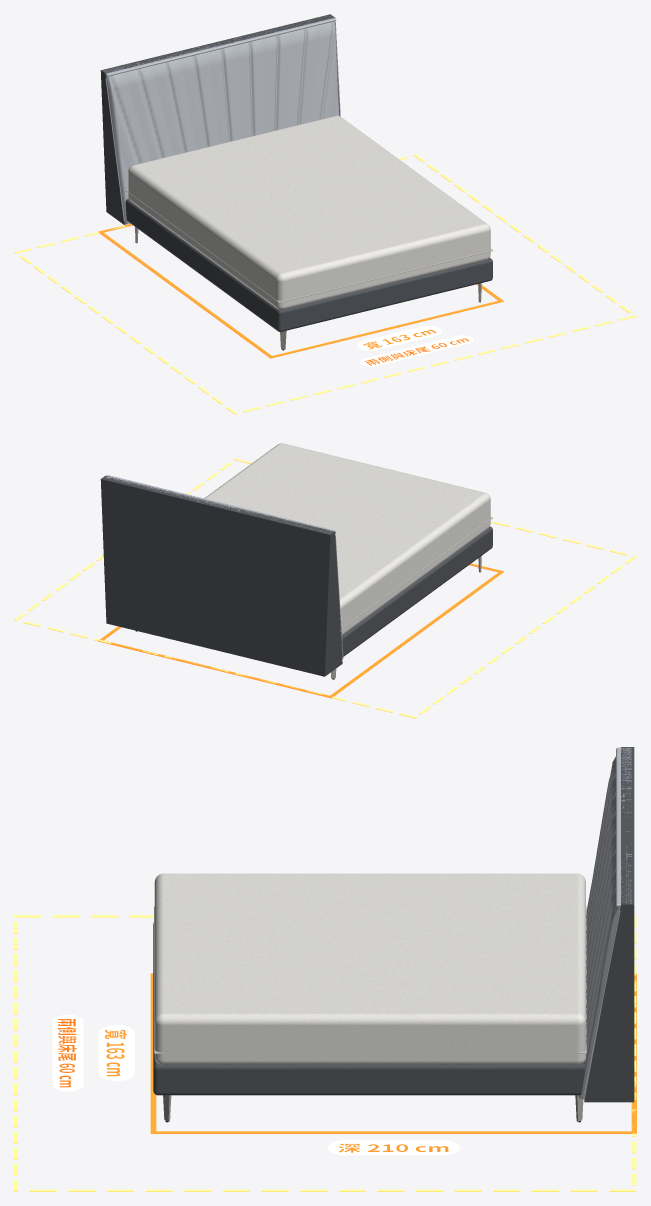
The model's file is ownMila-f.glb.
The picture shows the model from 3 angles, top to bottom: view 1: azimuth 30°, elevation 25°; view 2: azimuth 150°, elevation 25°; view 3: azimuth 270°, elevation 25°; orthographic projection. The views are drawn at different scales.
Parts seen in each view (by area): view 1: object 20, object 2, ar-frame, object 8, object 6, object 1, object 3, object 21; view 2: object 1, object 20, object 6, ar-frame, object 3; view 3: object 20, object 7, ar-frame, object 1, object 2, object 3, object 21.
Boxes of the visible parts, x1,y1,x2,y2 form: object 20: (128, 115, 490, 309); object 2: (106, 21, 339, 223); ar-frame: (14, 154, 636, 414); object 8: (277, 259, 492, 331); object 6: (125, 198, 282, 331); object 1: (100, 14, 339, 224); object 3: (104, 16, 336, 76); object 21: (125, 189, 493, 302); object 1: (100, 475, 342, 676); object 20: (204, 443, 490, 636); object 6: (341, 526, 492, 656); ar-frame: (14, 458, 636, 718); object 3: (106, 475, 336, 532); object 20: (154, 873, 585, 1064); object 7: (153, 1063, 585, 1095); ar-frame: (14, 915, 636, 1191); object 1: (584, 747, 634, 1102); object 2: (579, 757, 620, 1099); object 3: (616, 747, 631, 907); object 21: (154, 906, 586, 1053).
Size of the model in its own units: 2.85 by 1.1 by 2.72.
13 materials, 5 textured.
